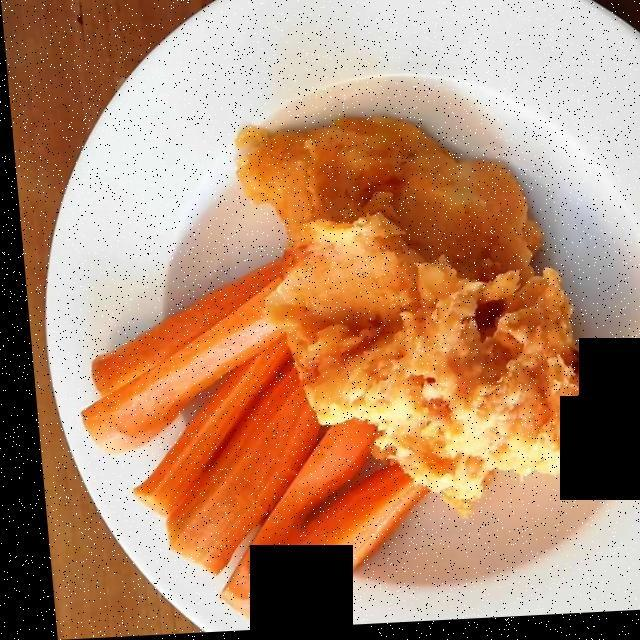carrot: (76, 250, 410, 627)
sweet-potato: (226, 116, 585, 506)
